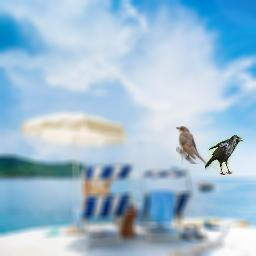Crow: (205, 135, 244, 175)
Cuckoo: (176, 126, 206, 164)
